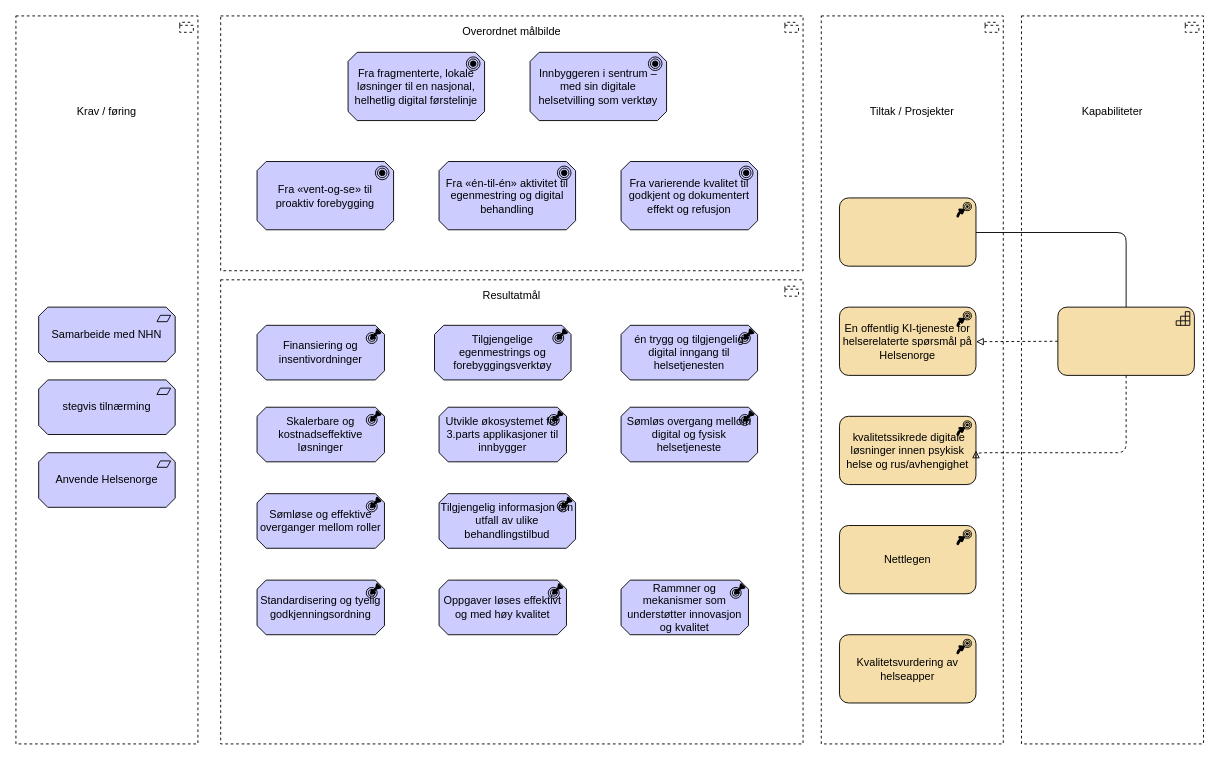
Some shapes in this 1219 by 760 pixel diagram are drawn without their labels. The centre of each missing label's shape, as x and y in pixels:
"Digital veiviser inn til helsetjenestene" belongs at [1125,340].
"Program Digital Førstelinje" belongs at [907,231].
